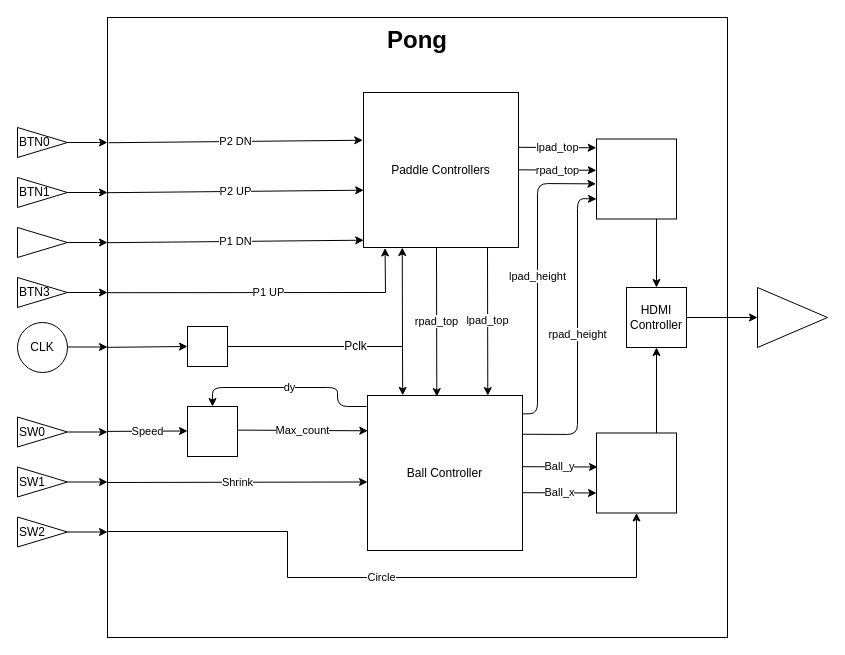
This 845x655 diagram has some shape labels left out. Here are the shapes that lost their labels. From the top down, the box of each, then its label:
(596, 138, 676, 219): Draw Paddles
(16, 226, 68, 258): BTN2
(756, 286, 828, 348): HDMI Output
(186, 326, 228, 366): PLL
(186, 406, 238, 456): Max Count Changer
(596, 432, 676, 513): Draw Ball
